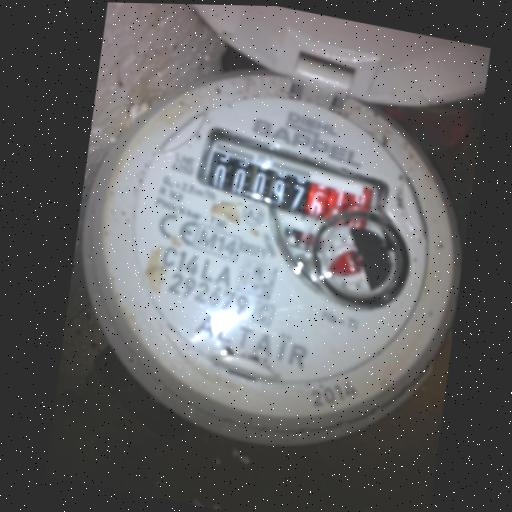0: (222, 154, 256, 199), (204, 147, 237, 192), (242, 159, 275, 204)
1: (321, 186, 352, 225)
6: (301, 179, 333, 221)
7: (282, 173, 313, 216)
9: (342, 183, 375, 232), (262, 167, 294, 210)
border_water_meter_number: (187, 121, 398, 241)
